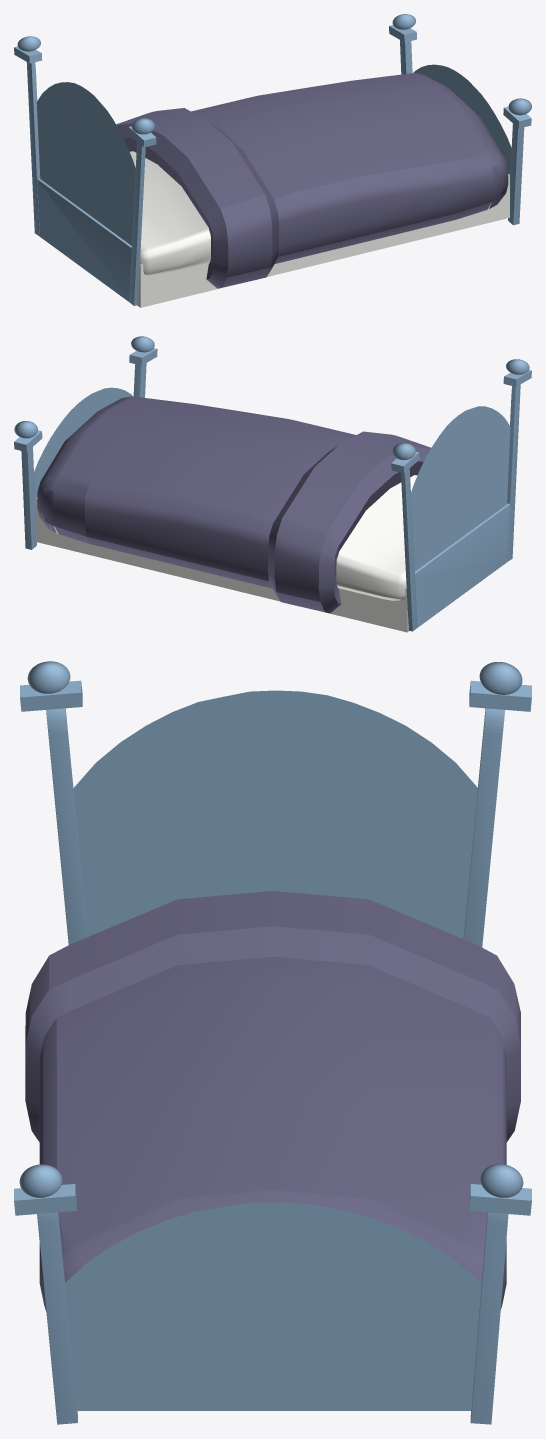
The model's file is camaTimmy.obj.
3 views of the same model, one above another, from view 1: azimuth 30°, elevation 25°; view 2: azimuth 150°, elevation 25°; view 3: azimuth 270°, elevation 25° (orthographic). The views are drawn at different scales.
Parts seen in each view (by area): view 1: polySurface5.001, polySurface5, kitty.002, Box067.002, kitty.001, Box074, Box074.002, Box074.001, Box068.001; view 2: polySurface5.001, polySurface5, kitty.002, Box067.002, kitty.001, Box074.002, Box074, Box068.001, Box074.001; view 3: polySurface5.001, kitty.001, kitty.002, Box074.002, Box074, Box074.001, Box068.001, Cube, Cube.001, Cube.003, Cube.002, Sphere.001 (+3 smaller).
Part boxes in pixels (box(x1,y1,x2,y2)): polySurface5.001: box(116, 73, 508, 288); polySurface5: box(130, 151, 509, 307); kitty.002: box(36, 82, 135, 245); Box067.002: box(37, 178, 136, 305); kitty.001: box(413, 64, 511, 177); Box074: box(129, 142, 145, 305); Box074.002: box(26, 51, 40, 235); Box074.001: box(508, 124, 524, 225); Box068.001: box(400, 40, 412, 74); polySurface5.001: box(37, 396, 431, 613); polySurface5: box(36, 475, 417, 632); kitty.002: box(411, 406, 510, 570); Box067.002: box(415, 503, 509, 628); kitty.001: box(34, 387, 132, 515); Box074.002: box(401, 469, 417, 631); Box074: box(507, 384, 520, 561); Box068.001: box(21, 447, 36, 549); Box074.001: box(133, 363, 146, 397); polySurface5.001: box(25, 891, 520, 1312); kitty.001: box(65, 1202, 481, 1410); kitty.002: box(73, 690, 477, 938); Box074.002: box(463, 708, 504, 947); Box074: box(46, 708, 87, 944); Box074.001: box(37, 1212, 77, 1424); Box068.001: box(470, 1212, 508, 1424); Cube: box(14, 1184, 76, 1215); Cube.001: box(469, 1184, 531, 1215); Cube.003: box(20, 680, 82, 711); Cube.002: box(469, 680, 531, 711); Sphere.001: box(480, 1164, 523, 1197).
Bounding box in the file's own units: 5.13 × 2.45 × 2.92.
Materials: 17 (17 with a texture image).
